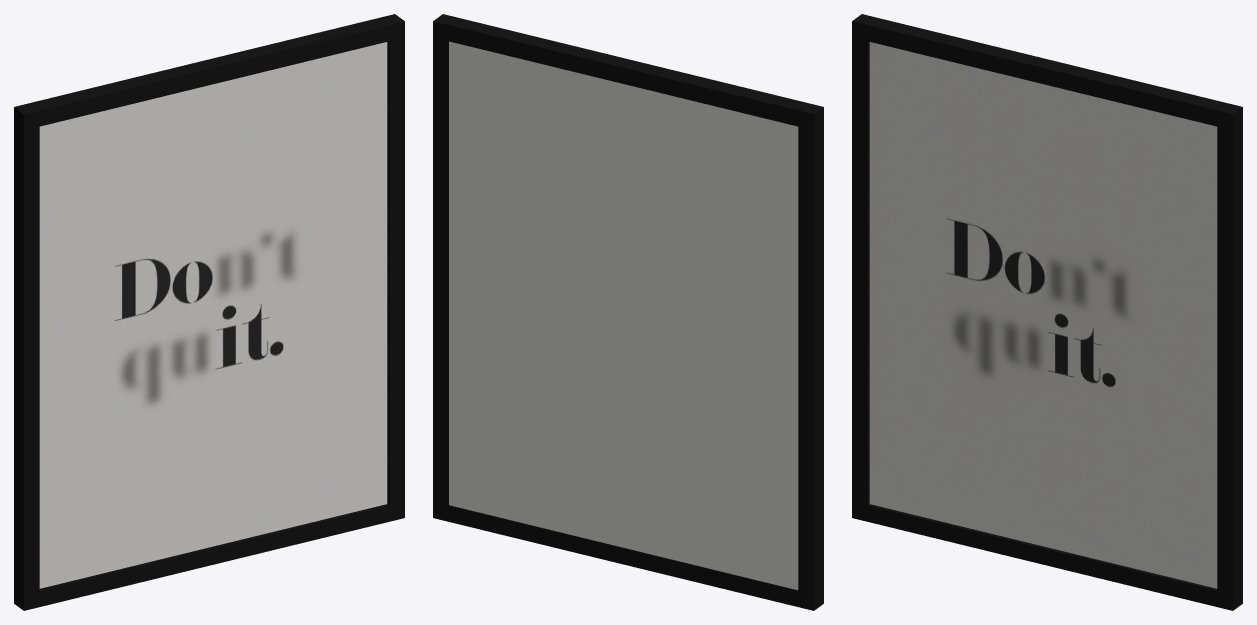
The model's file is dont-quit-framed-poster-minimal-motivational-wall-art.glb.
3 views of the same model, side by side, from view 1: azimuth 30°, elevation 25°; view 2: azimuth 150°, elevation 25°; view 3: azimuth 330°, elevation 25° (orthographic).
Visible parts, largest first — view 1: Don't Quit – Minimal-Motivationsposter; view 2: Don't Quit – Minimal-Motivationsposter; view 3: Don't Quit – Minimal-Motivationsposter.
Part boxes in pixels (left/top/right/bottom): Don't Quit – Minimal-Motivationsposter: left=14, top=14, right=404, bottom=610; Don't Quit – Minimal-Motivationsposter: left=433, top=14, right=823, bottom=610; Don't Quit – Minimal-Motivationsposter: left=852, top=14, right=1242, bottom=610.
Bounding box in the file's own units: 0.4891 × 0.6096 × 0.022.
1 material, 1 textured.
